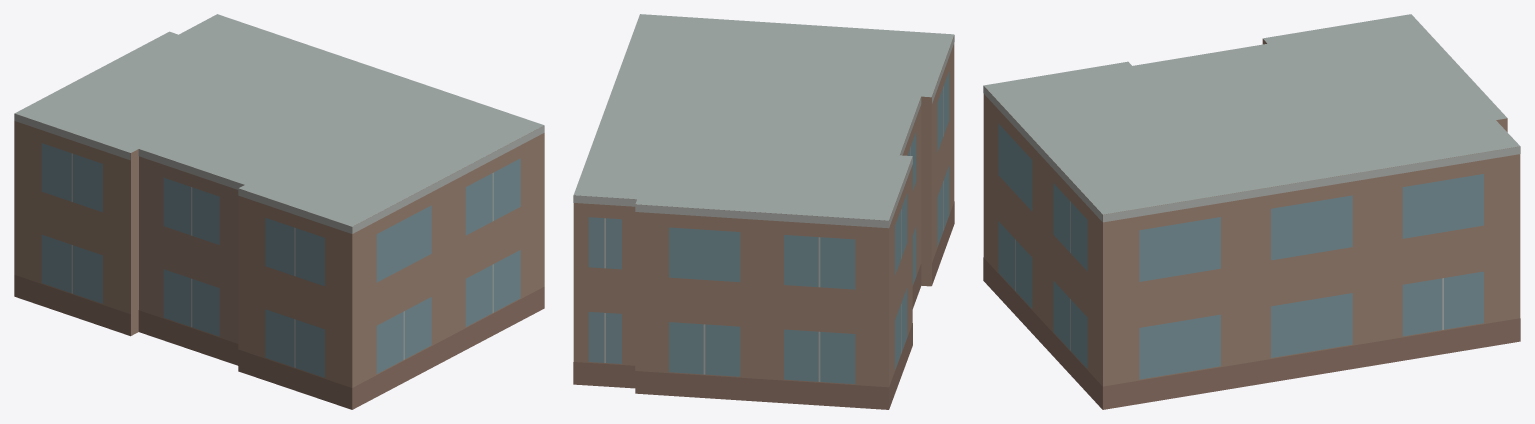
Rendered from survey-upis-32834521.glb.
3 renders of one model, left to right at view 1: azimuth 30°, elevation 25°; view 2: azimuth 150°, elevation 25°; view 3: azimuth 270°, elevation 25°, orthographic. The views are drawn at different scales.
Parts seen in each view (by area): view 1: survey-upis-32834521.tmp; view 2: survey-upis-32834521.tmp; view 3: survey-upis-32834521.tmp.
Boxes of the visible parts, x1=… form: survey-upis-32834521.tmp: x1=14, y1=14, x2=544, y2=409; survey-upis-32834521.tmp: x1=573, y1=14, x2=954, y2=409; survey-upis-32834521.tmp: x1=983, y1=14, x2=1520, y2=409.
Bounding box in the file's own units: 13.45 × 6.1 × 15.22.
